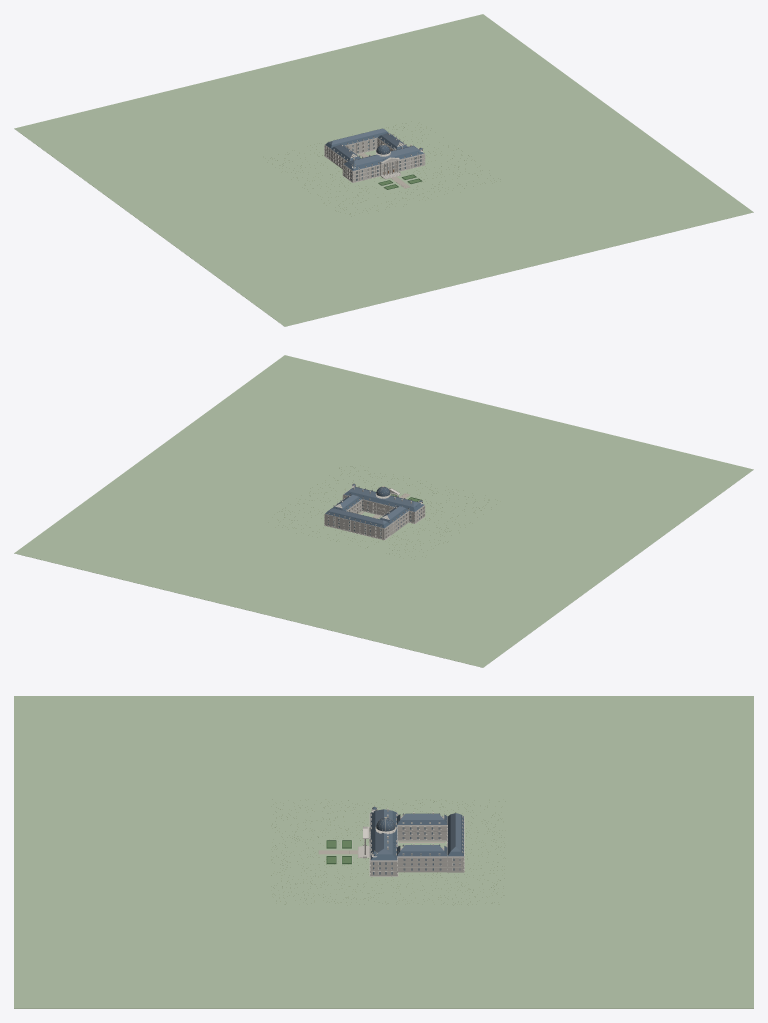
Rendered from Chateau-Grand-V5.8-Frontfassade.glb.
3 renders of one model, top to bottom at view 1: azimuth 30°, elevation 25°; view 2: azimuth 150°, elevation 25°; view 3: azimuth 270°, elevation 25°, orthographic. The views are drawn at different scales.
Visible parts, largest first — view 1: world; view 2: world; view 3: world.
Boxes of the visible parts, box(x1,y1,x2,y2) form: world: box(14, 14, 753, 326); world: box(14, 355, 753, 667); world: box(14, 696, 753, 1008).
Bounding box in the file's own units: 720 × 42.49 × 720.
